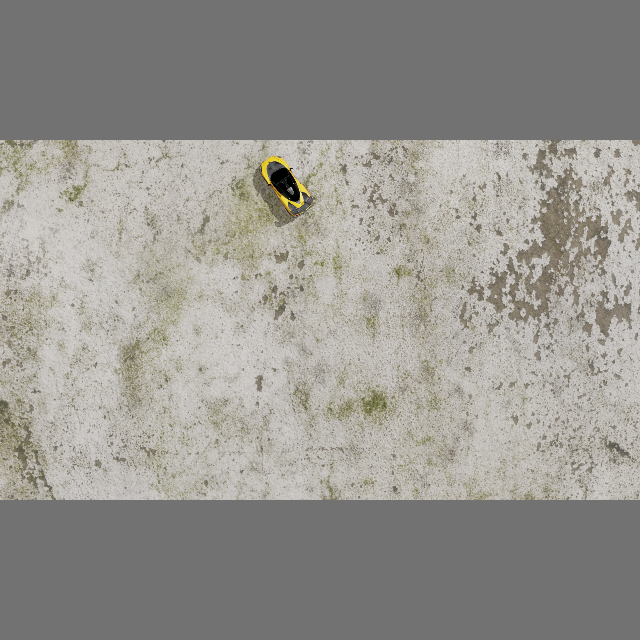car: (253, 147, 318, 222)
